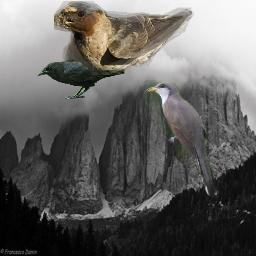Crow: (37, 59, 125, 100)
Cuckoo: (145, 80, 220, 198)
Swallow: (54, 1, 194, 76)
